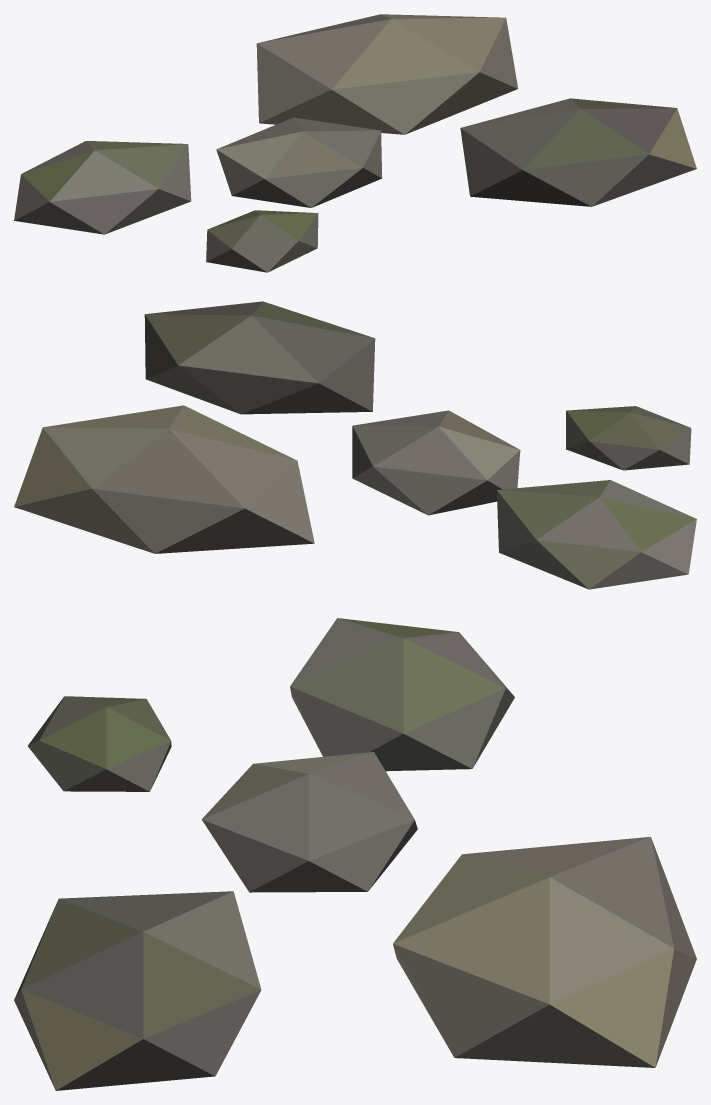
The model's file is env_pebbles.glb.
3 views of the same model, one above another, from view 1: azimuth 30°, elevation 25°; view 2: azimuth 150°, elevation 25°; view 3: azimuth 270°, elevation 25° (orthographic). The views are drawn at different scales.
Visible parts, largest first — view 1: env_pebbles; view 2: env_pebbles; view 3: env_pebbles.
Part boxes in pixels (bbox=[...]): env_pebbles: bbox=[14, 14, 696, 272]; env_pebbles: bbox=[14, 301, 696, 589]; env_pebbles: bbox=[14, 618, 696, 1090].
Size of the model in its own units: 1.64 by 0.2278 by 1.09.
